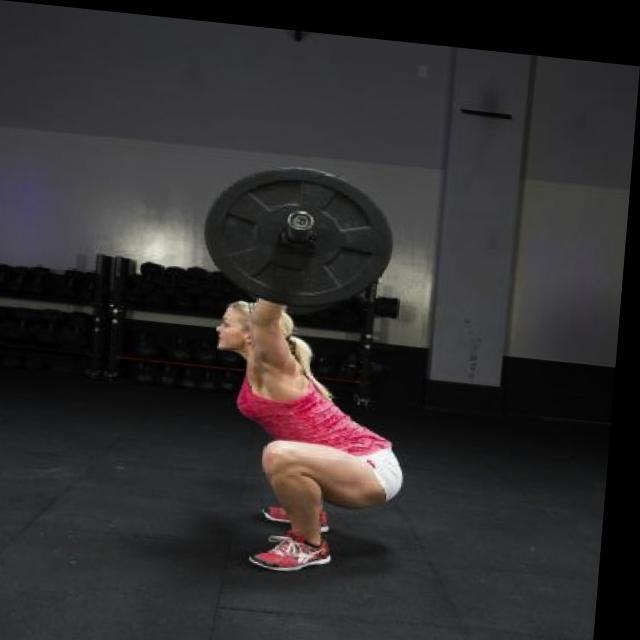barbell: (197, 147, 406, 311)
